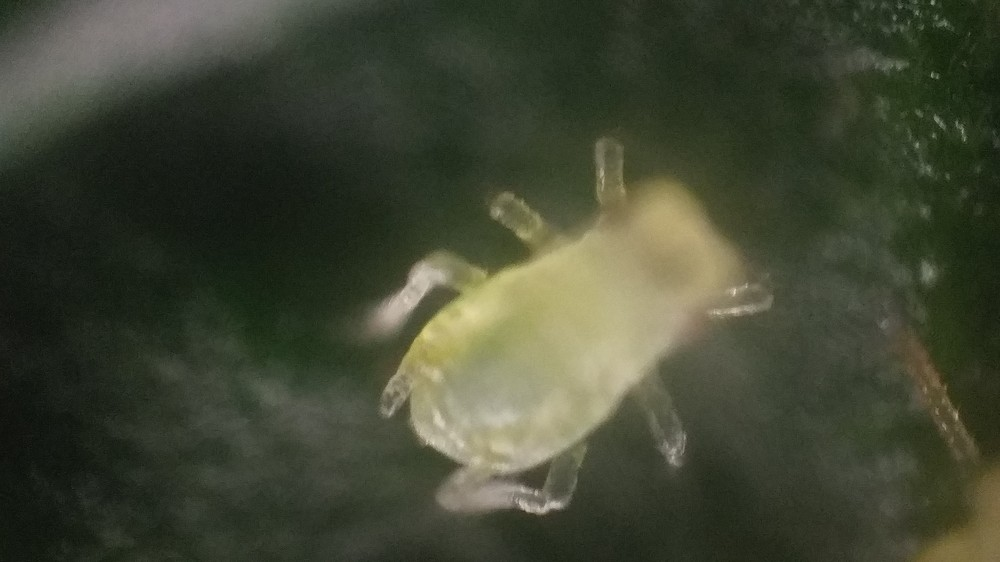Pulgon: (338, 126, 838, 537)
